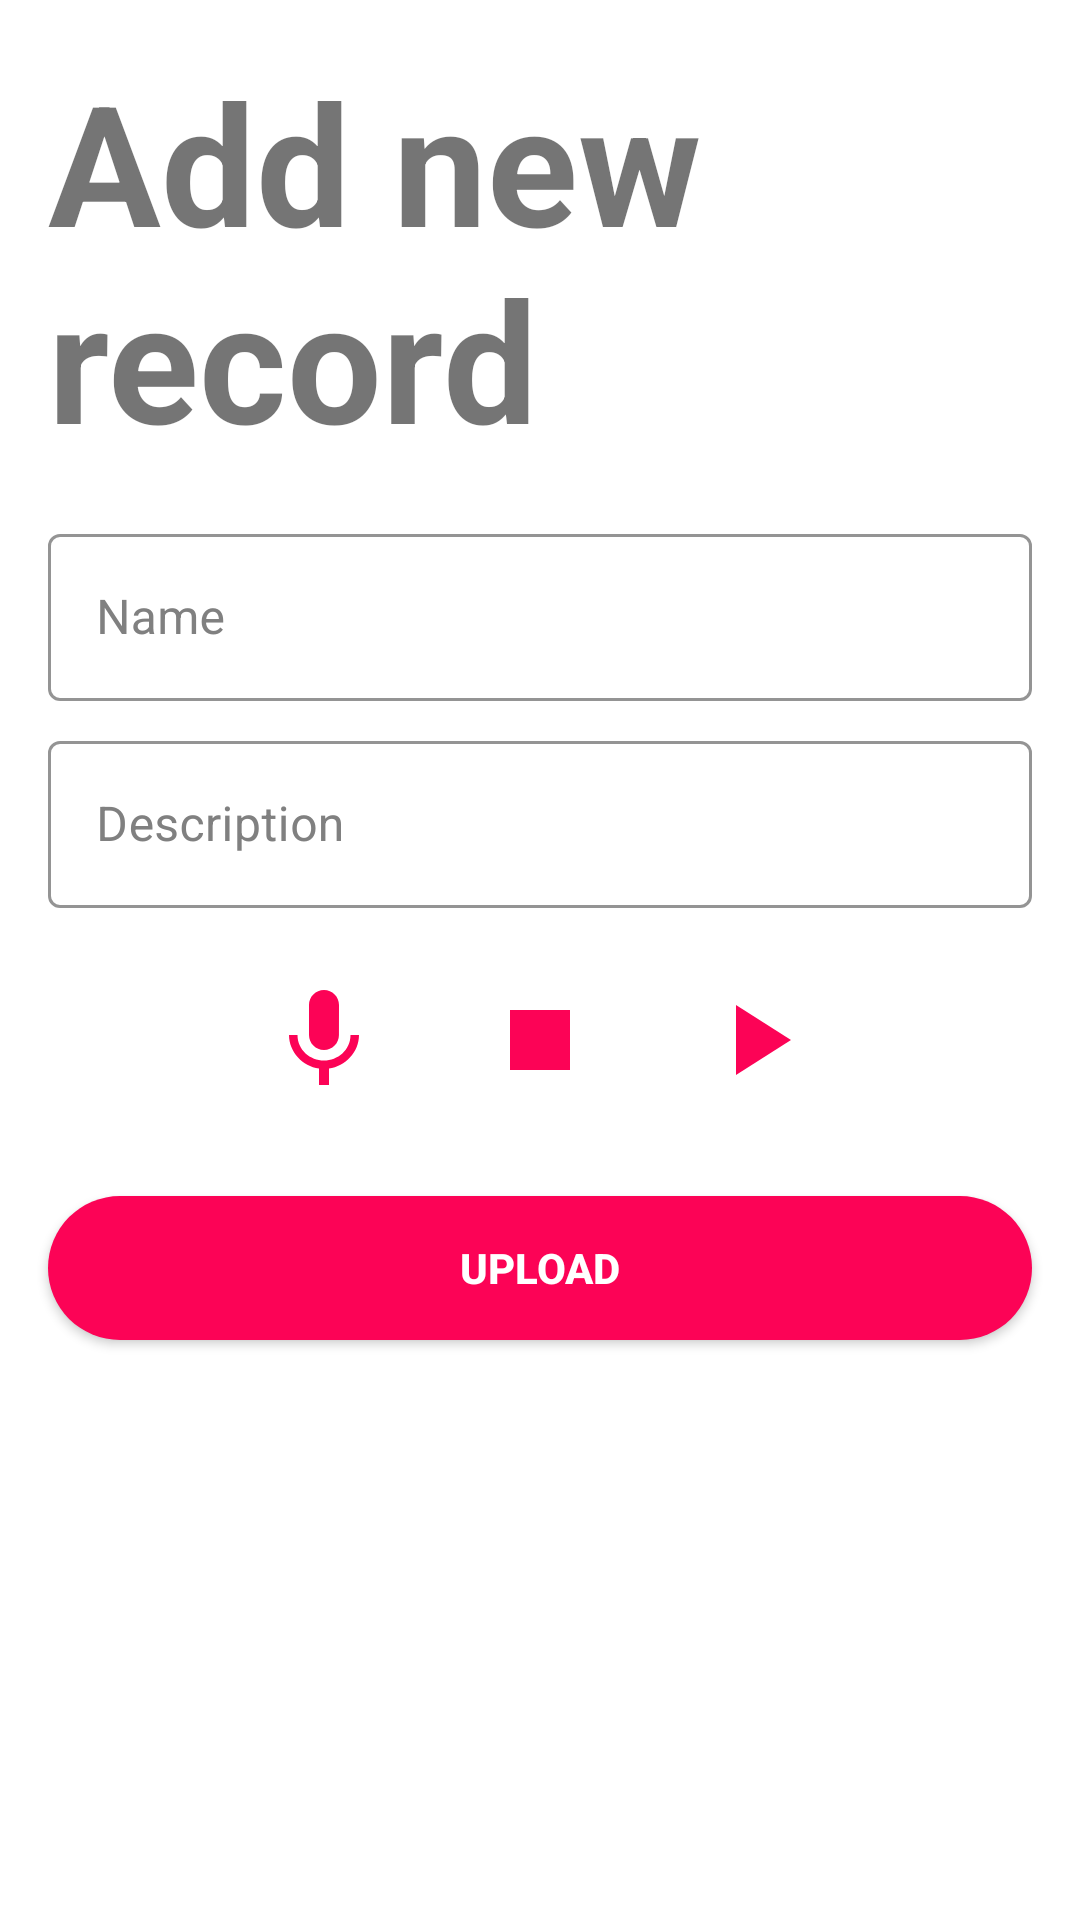

Locate icon controls on the screen. Image size 1080px x 1920px, boxes as (x1, y1, x2, y2).
mic: (289, 990, 359, 1085)
play arrow: (736, 1005, 791, 1075)
